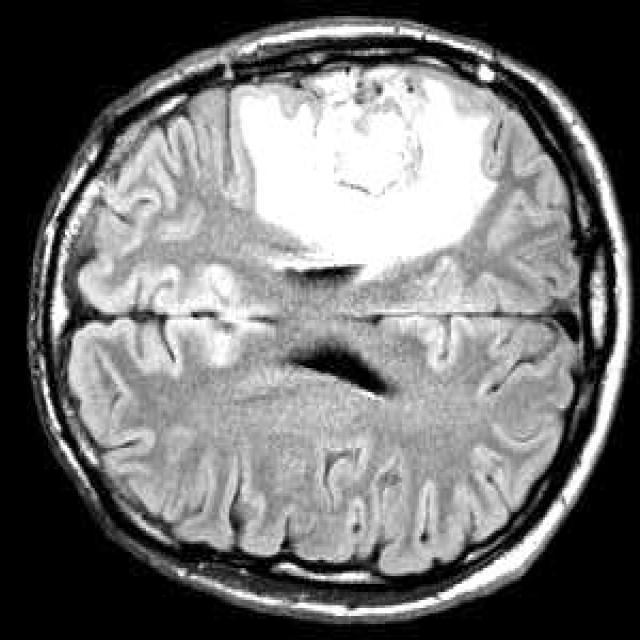tumor: (228, 64, 495, 264)
